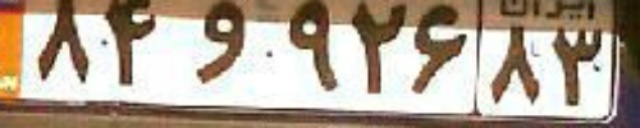2: (350, 2, 407, 93)
3: (549, 25, 605, 106)
4: (102, 0, 163, 86)
6: (411, 3, 467, 93)
8: (29, 2, 92, 80), (485, 24, 540, 104)
9: (281, 4, 343, 90)
vav: (189, 2, 248, 84)
